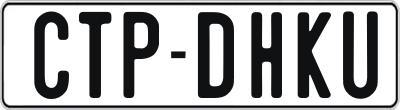C: (34, 12, 70, 103)
D: (195, 12, 236, 103)
H: (248, 12, 280, 103)
K: (298, 12, 336, 101)
P: (123, 11, 160, 101)
T: (76, 10, 111, 98)
U: (341, 11, 379, 102)
